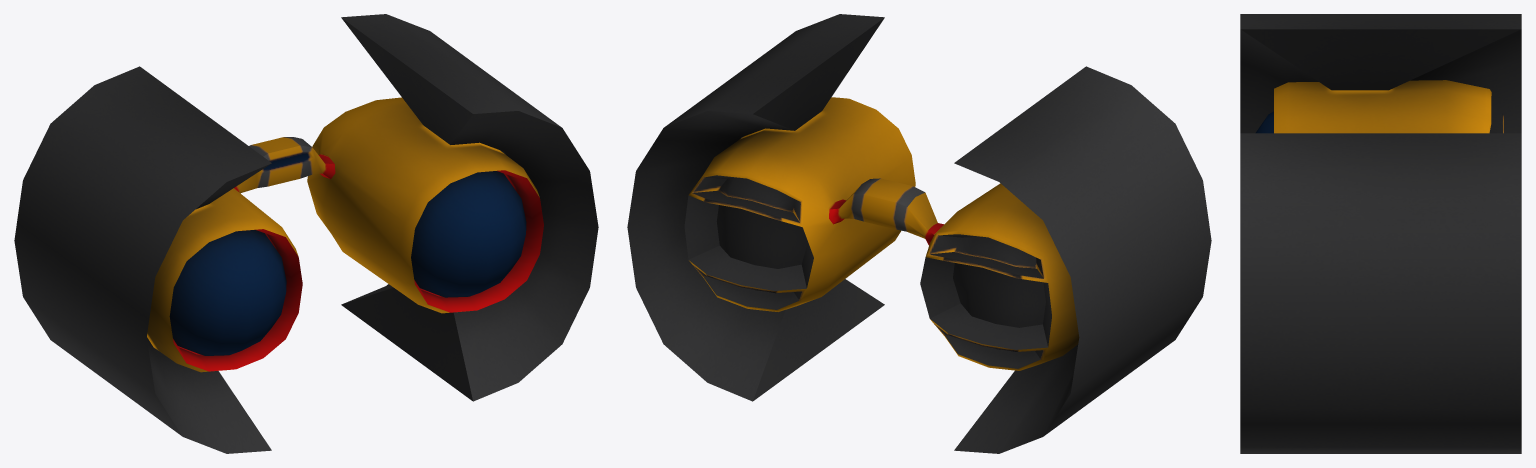
File: Enemy_DoubleEngine.FBX
The picture shows the model from 3 angles, left to right: view 1: azimuth 30°, elevation 25°; view 2: azimuth 150°, elevation 25°; view 3: azimuth 270°, elevation 25°; orthographic projection. The views are drawn at different scales.
Visible parts, largest first — view 1: Enemy_DoubleEngine; view 2: Enemy_DoubleEngine; view 3: Enemy_DoubleEngine.
Boxes of the visible parts, x1=… form: Enemy_DoubleEngine: x1=14, y1=14, x2=598, y2=453; Enemy_DoubleEngine: x1=627, y1=14, x2=1211, y2=453; Enemy_DoubleEngine: x1=1240, y1=14, x2=1521, y2=453.
Bounding box in the file's own units: 5.9 × 3.59 × 2.99.
